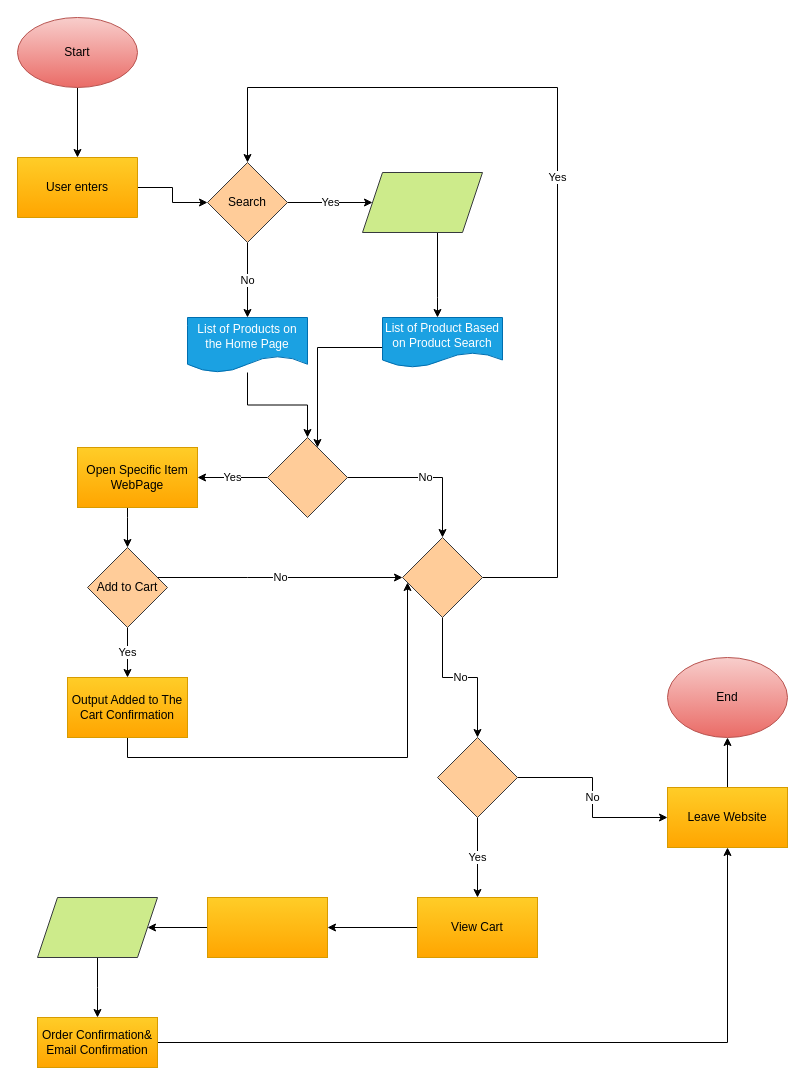
Image size: 805x1085. Some labels were removed from this diagram. Each missing label, with the centre of its shape:
Checkout: [477,777]
Continue Shopping: [442,577]
Payment Information: [97,927]
Read Product: [422,202]
View Payment: [267,927]
View Specific Item: [307,477]
